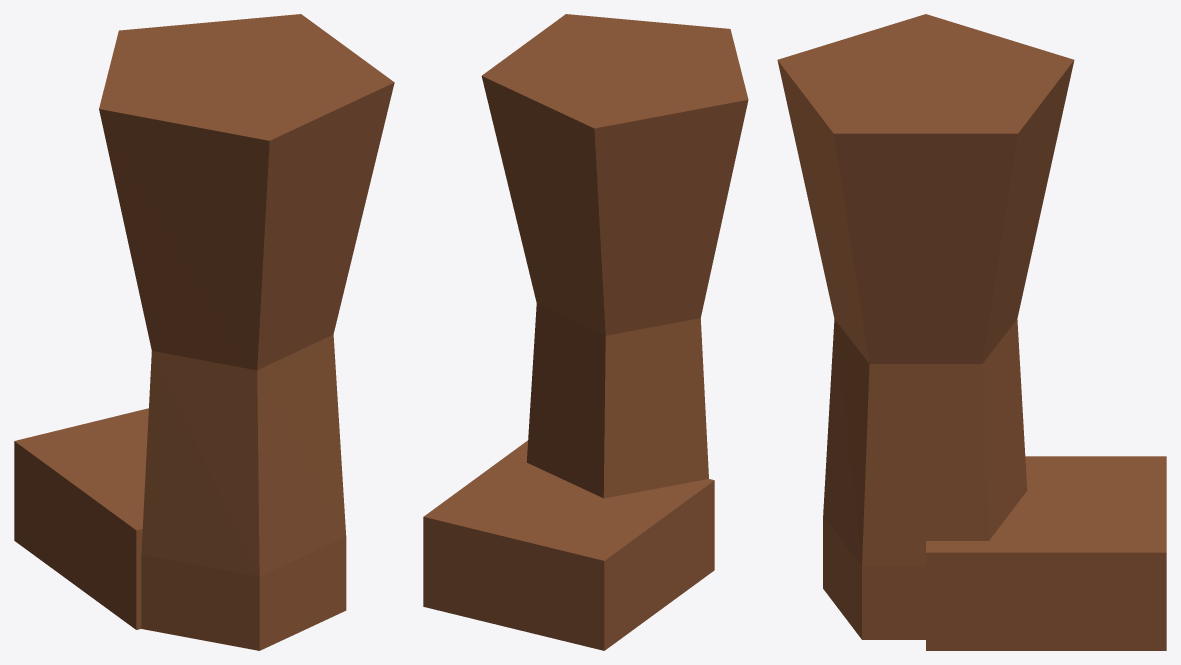
File: animal_squirrel_leg.obj
3 views of the same model, side by side, from view 1: azimuth 30°, elevation 25°; view 2: azimuth 150°, elevation 25°; view 3: azimuth 270°, elevation 25° (orthographic). The views are drawn at different scales.
Visible parts, largest first — view 1: animal_squirrel_leg; view 2: animal_squirrel_leg; view 3: animal_squirrel_leg.
Part boxes in pixels (x1,y1,x2,y2): animal_squirrel_leg: [14, 14, 394, 650]; animal_squirrel_leg: [423, 14, 748, 650]; animal_squirrel_leg: [777, 14, 1166, 650].
Bounding box in the file's own units: 0.0452 × 0.092 × 0.0621.
